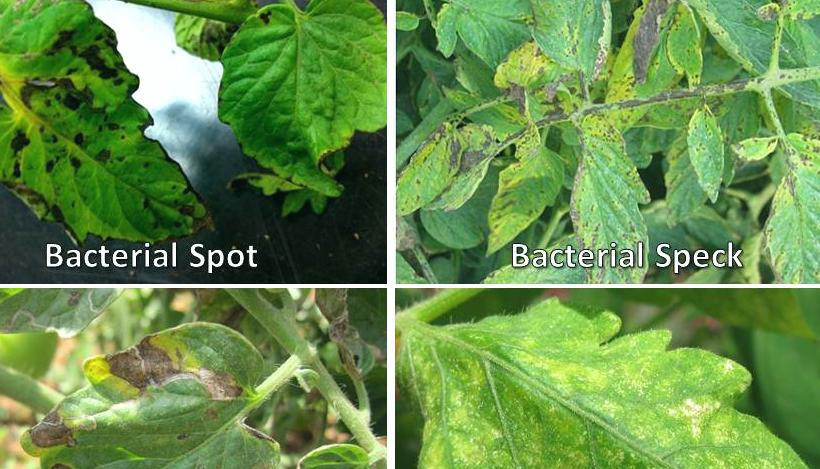Tomato Early blight leaf: (0, 316, 297, 469)
Tomato leaf bacterial spot: (0, 0, 218, 265), (208, 0, 387, 239), (560, 100, 644, 281), (729, 114, 820, 281), (483, 108, 566, 275), (503, 0, 619, 97), (407, 120, 502, 233), (412, 0, 556, 71), (656, 0, 709, 97)
